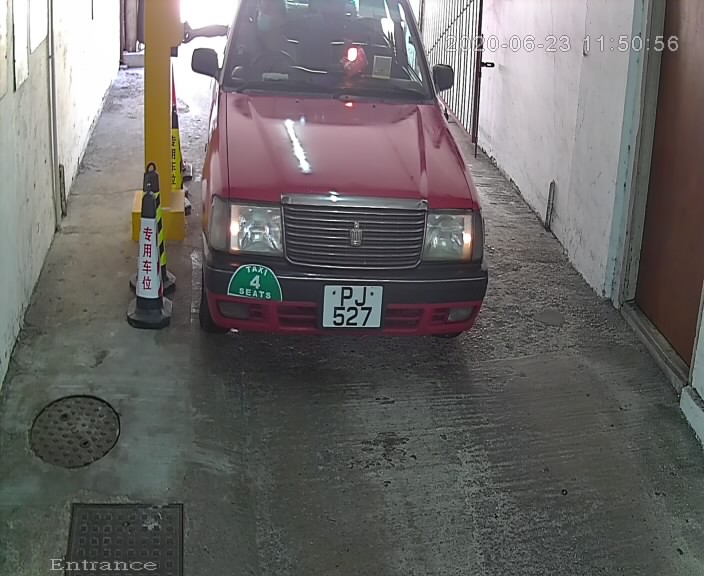taxi: (174, 2, 531, 389)
taxi_mark: (214, 253, 297, 316)
